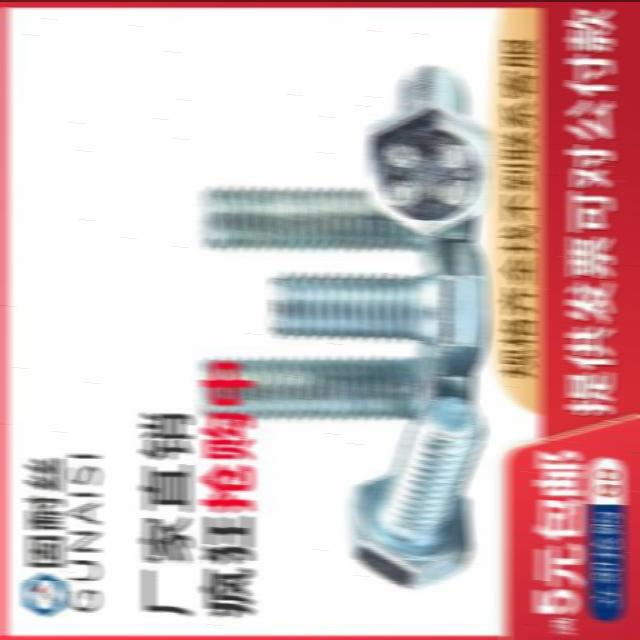Bolt: (266, 234, 492, 378), (198, 166, 480, 266), (347, 395, 485, 590), (196, 337, 478, 428), (363, 62, 499, 240)
